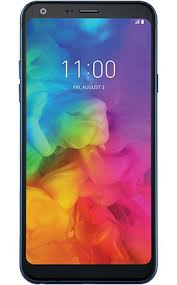lg: (16, 1, 163, 285)
